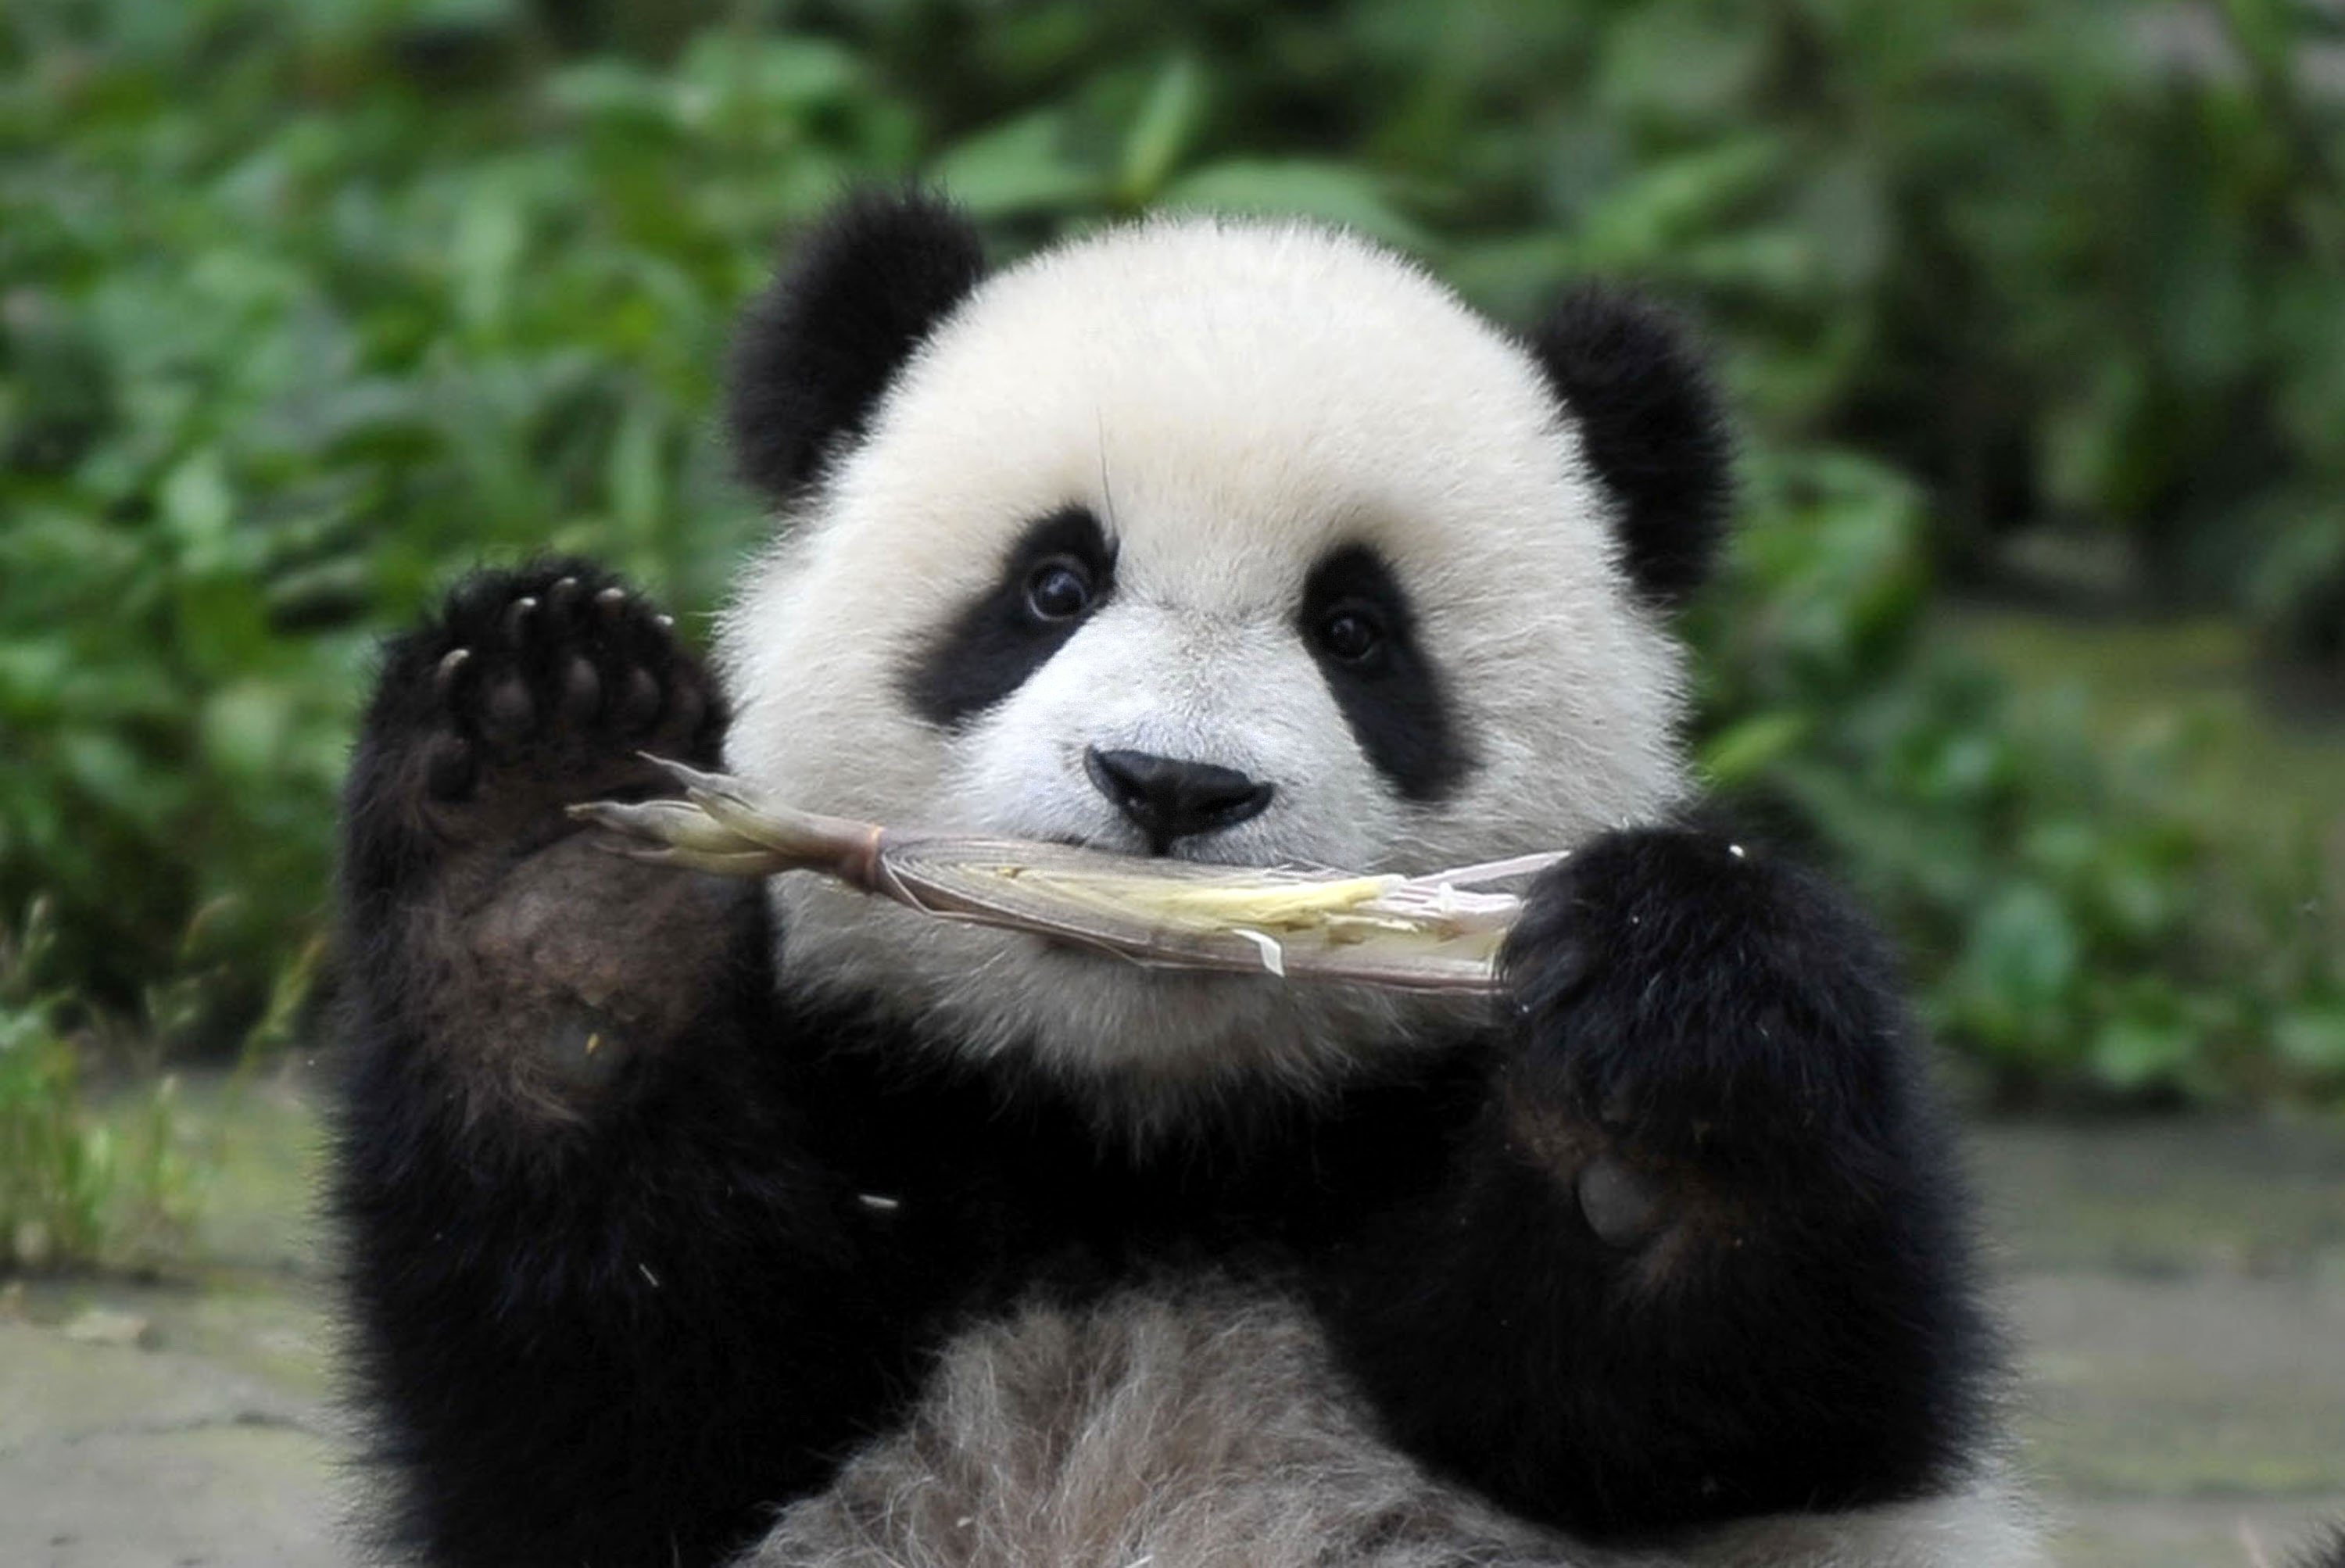panda: (227, 149, 2044, 1550)
